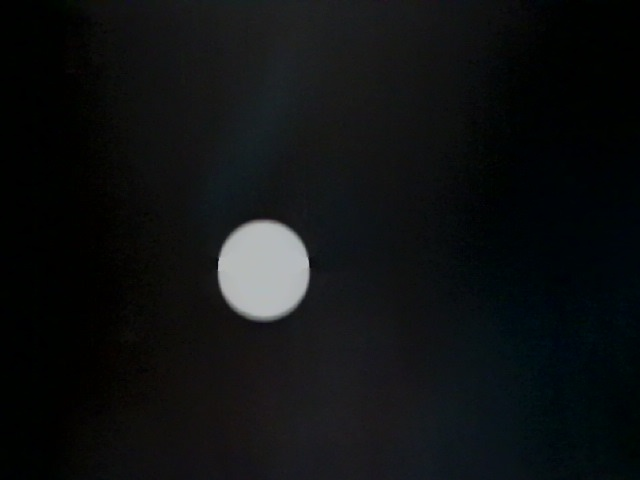CYLJ: (150, 190, 267, 328)
